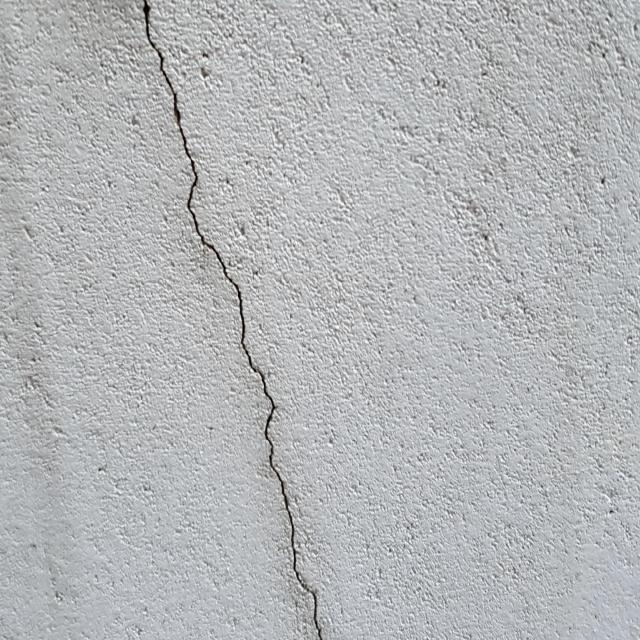SurfaceCrack: (113, 0, 346, 639)
